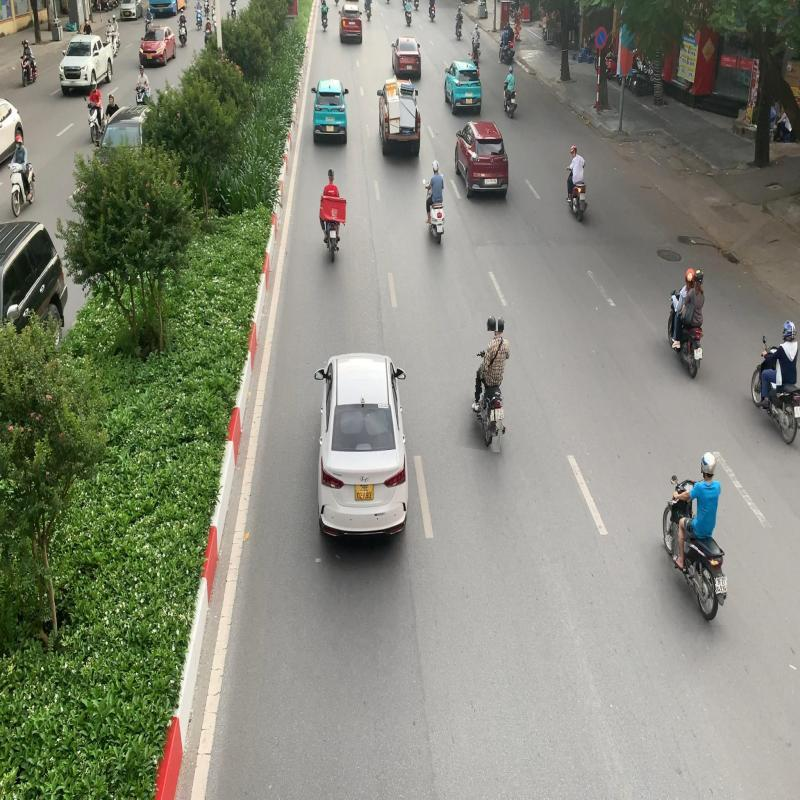helmet: (700, 451, 719, 474), (486, 315, 498, 331)
licenseplate: (714, 572, 730, 596), (494, 406, 504, 420), (694, 347, 704, 360)
motorcyclist: (662, 451, 735, 625), (461, 313, 514, 451)
nohelmet: (328, 168, 334, 182)
